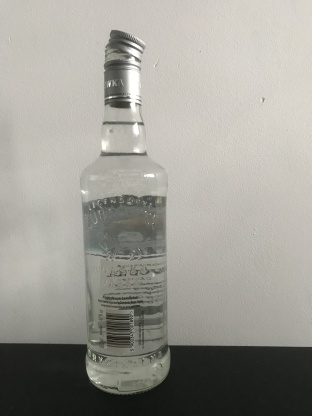nakretka: (101, 26, 147, 109)
